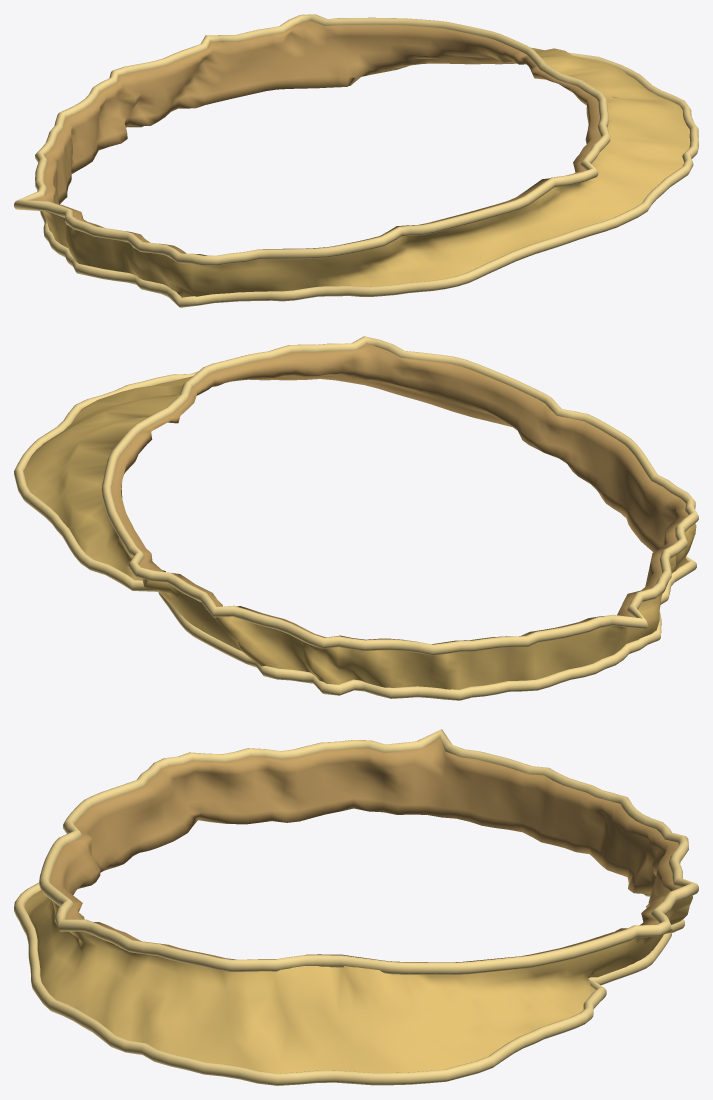
The model's file is side_nishi_gold_bun_band.glb.
The picture shows the model from 3 angles, top to bottom: view 1: azimuth 30°, elevation 25°; view 2: azimuth 150°, elevation 25°; view 3: azimuth 270°, elevation 25°; orthographic projection. The views are drawn at different scales.
Parts seen in each view (by area): view 1: gold, band_lining, gold_edge; view 2: gold, gold_edge, band_lining; view 3: gold, band_lining, gold_edge.
Boxes of the visible parts, left/top/right/bottom form: gold: left=44, top=47, right=690, bottom=297; band_lining: left=34, top=21, right=618, bottom=255; gold_edge: left=14, top=14, right=698, bottom=307; gold: left=23, top=376, right=696, bottom=689; gold_edge: left=14, top=336, right=698, bottom=700; band_lining: left=111, top=343, right=688, bottom=644; gold: left=24, top=890, right=692, bottom=1073; band_lining: left=50, top=737, right=681, bottom=962; gold_edge: left=14, top=729, right=698, bottom=1085.
Size of the model in its own units: 10.95 by 1.82 by 8.96.
